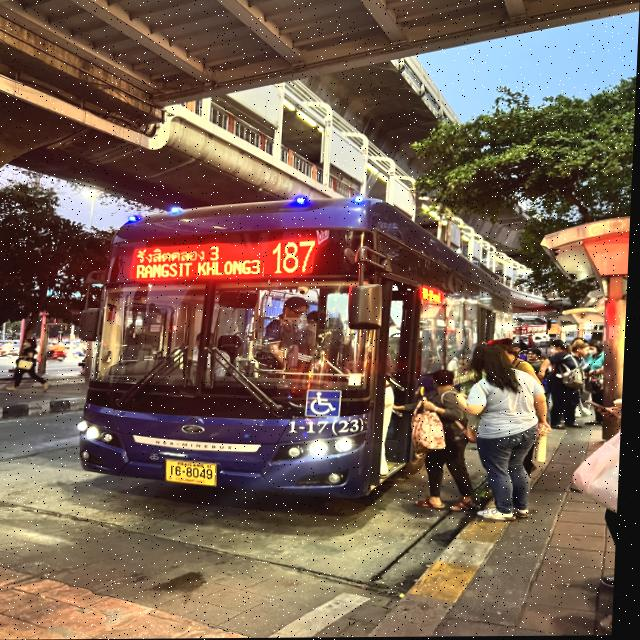Bus Line Number: (270, 237, 325, 278)
Bus Side Number: (284, 417, 371, 438)
Destination Sign: (128, 242, 267, 279)
TSB-Bus: (63, 189, 530, 511)
